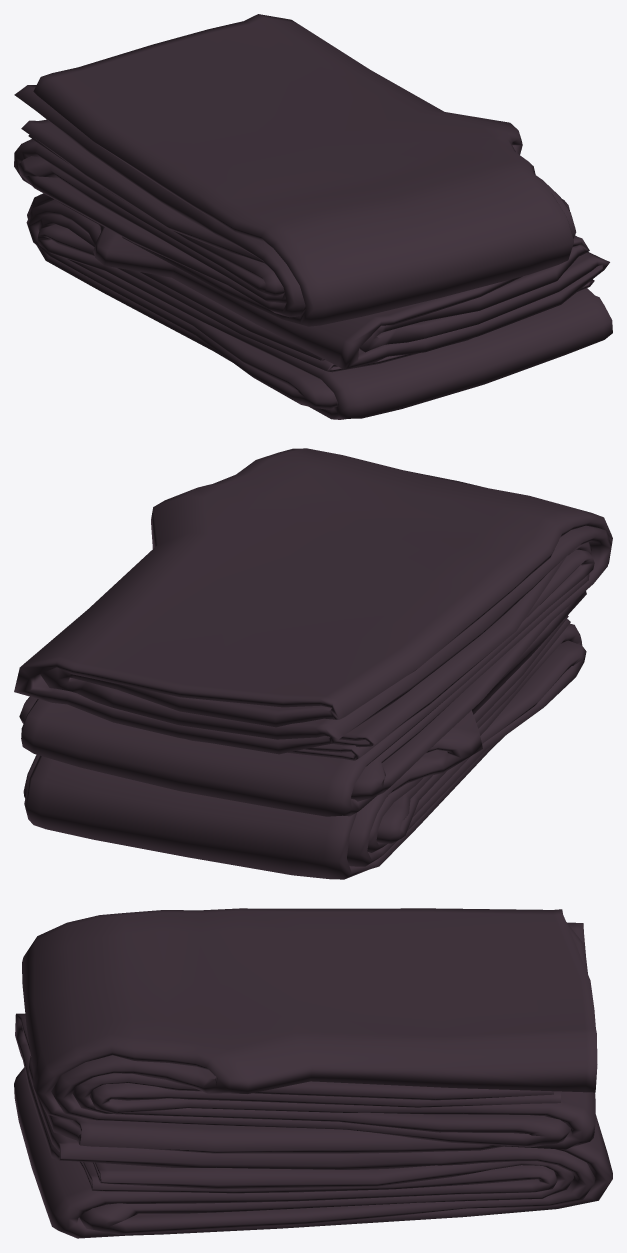
Rendered from Folded_Pant24.fbx.
3 renders of one model, top to bottom at view 1: azimuth 30°, elevation 25°; view 2: azimuth 150°, elevation 25°; view 3: azimuth 270°, elevation 25°, orthographic. The views are drawn at different scales.
Parts seen in each view (by area): view 1: Folded_Pant24; view 2: Folded_Pant24; view 3: Folded_Pant24.
Part boxes in pixels (x1,y1,x2,y2): Folded_Pant24: [14, 14, 612, 419]; Folded_Pant24: [14, 448, 612, 879]; Folded_Pant24: [14, 908, 612, 1238].
Size of the model in its own units: 25.78 by 11.41 by 35.19.
Materials: 1 (1 with a texture image).
